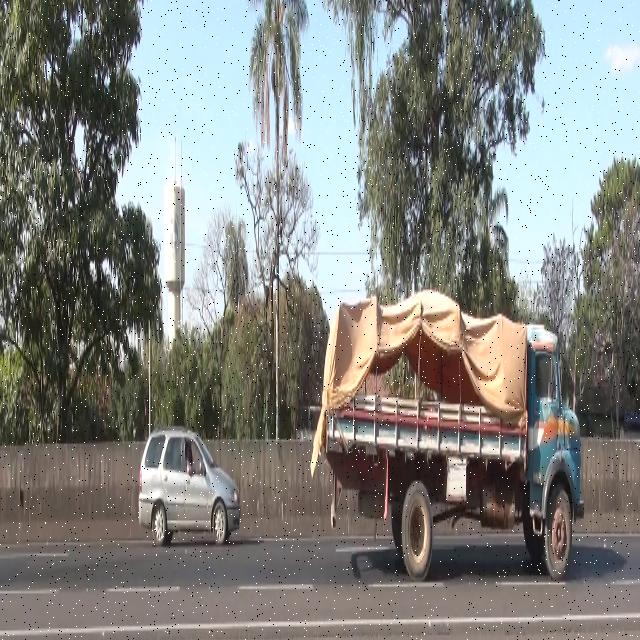-axle: (400, 474, 434, 583), (545, 481, 573, 584)
